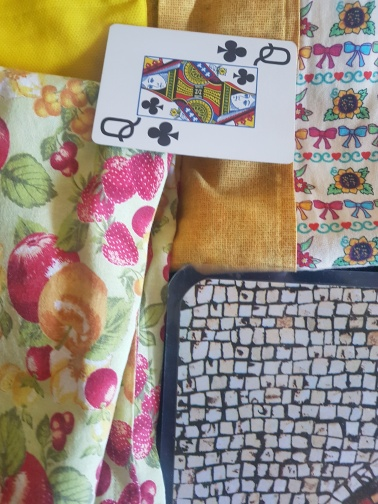queen: (92, 21, 297, 165)
